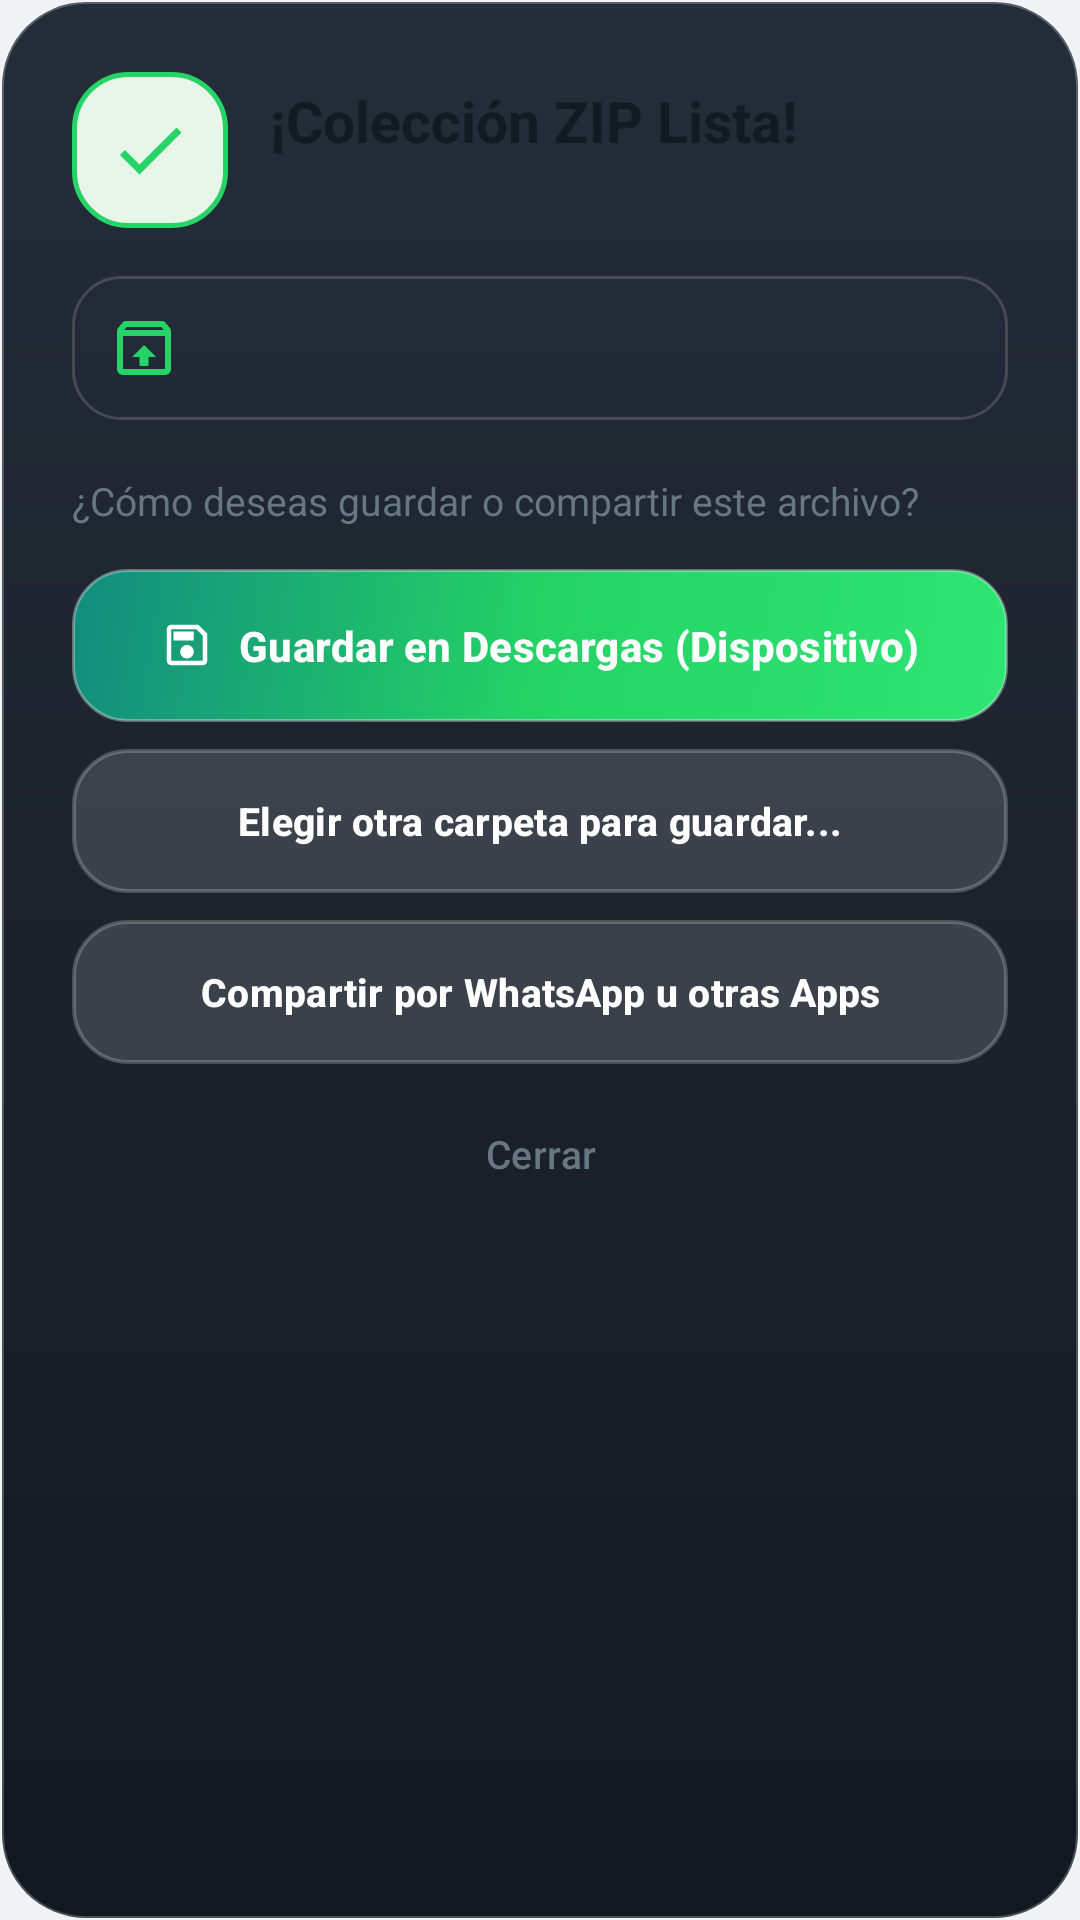

Locate icon controls on the screen. Image size 1080px×1920px, boxes as (x1, y1, x2, y2).
archive: (117, 321, 171, 375)
check: (120, 127, 182, 175)
